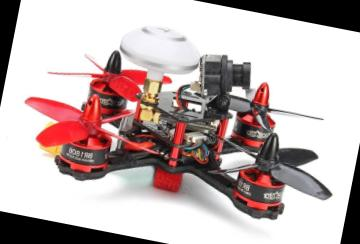drone: (0, 43, 350, 222)
